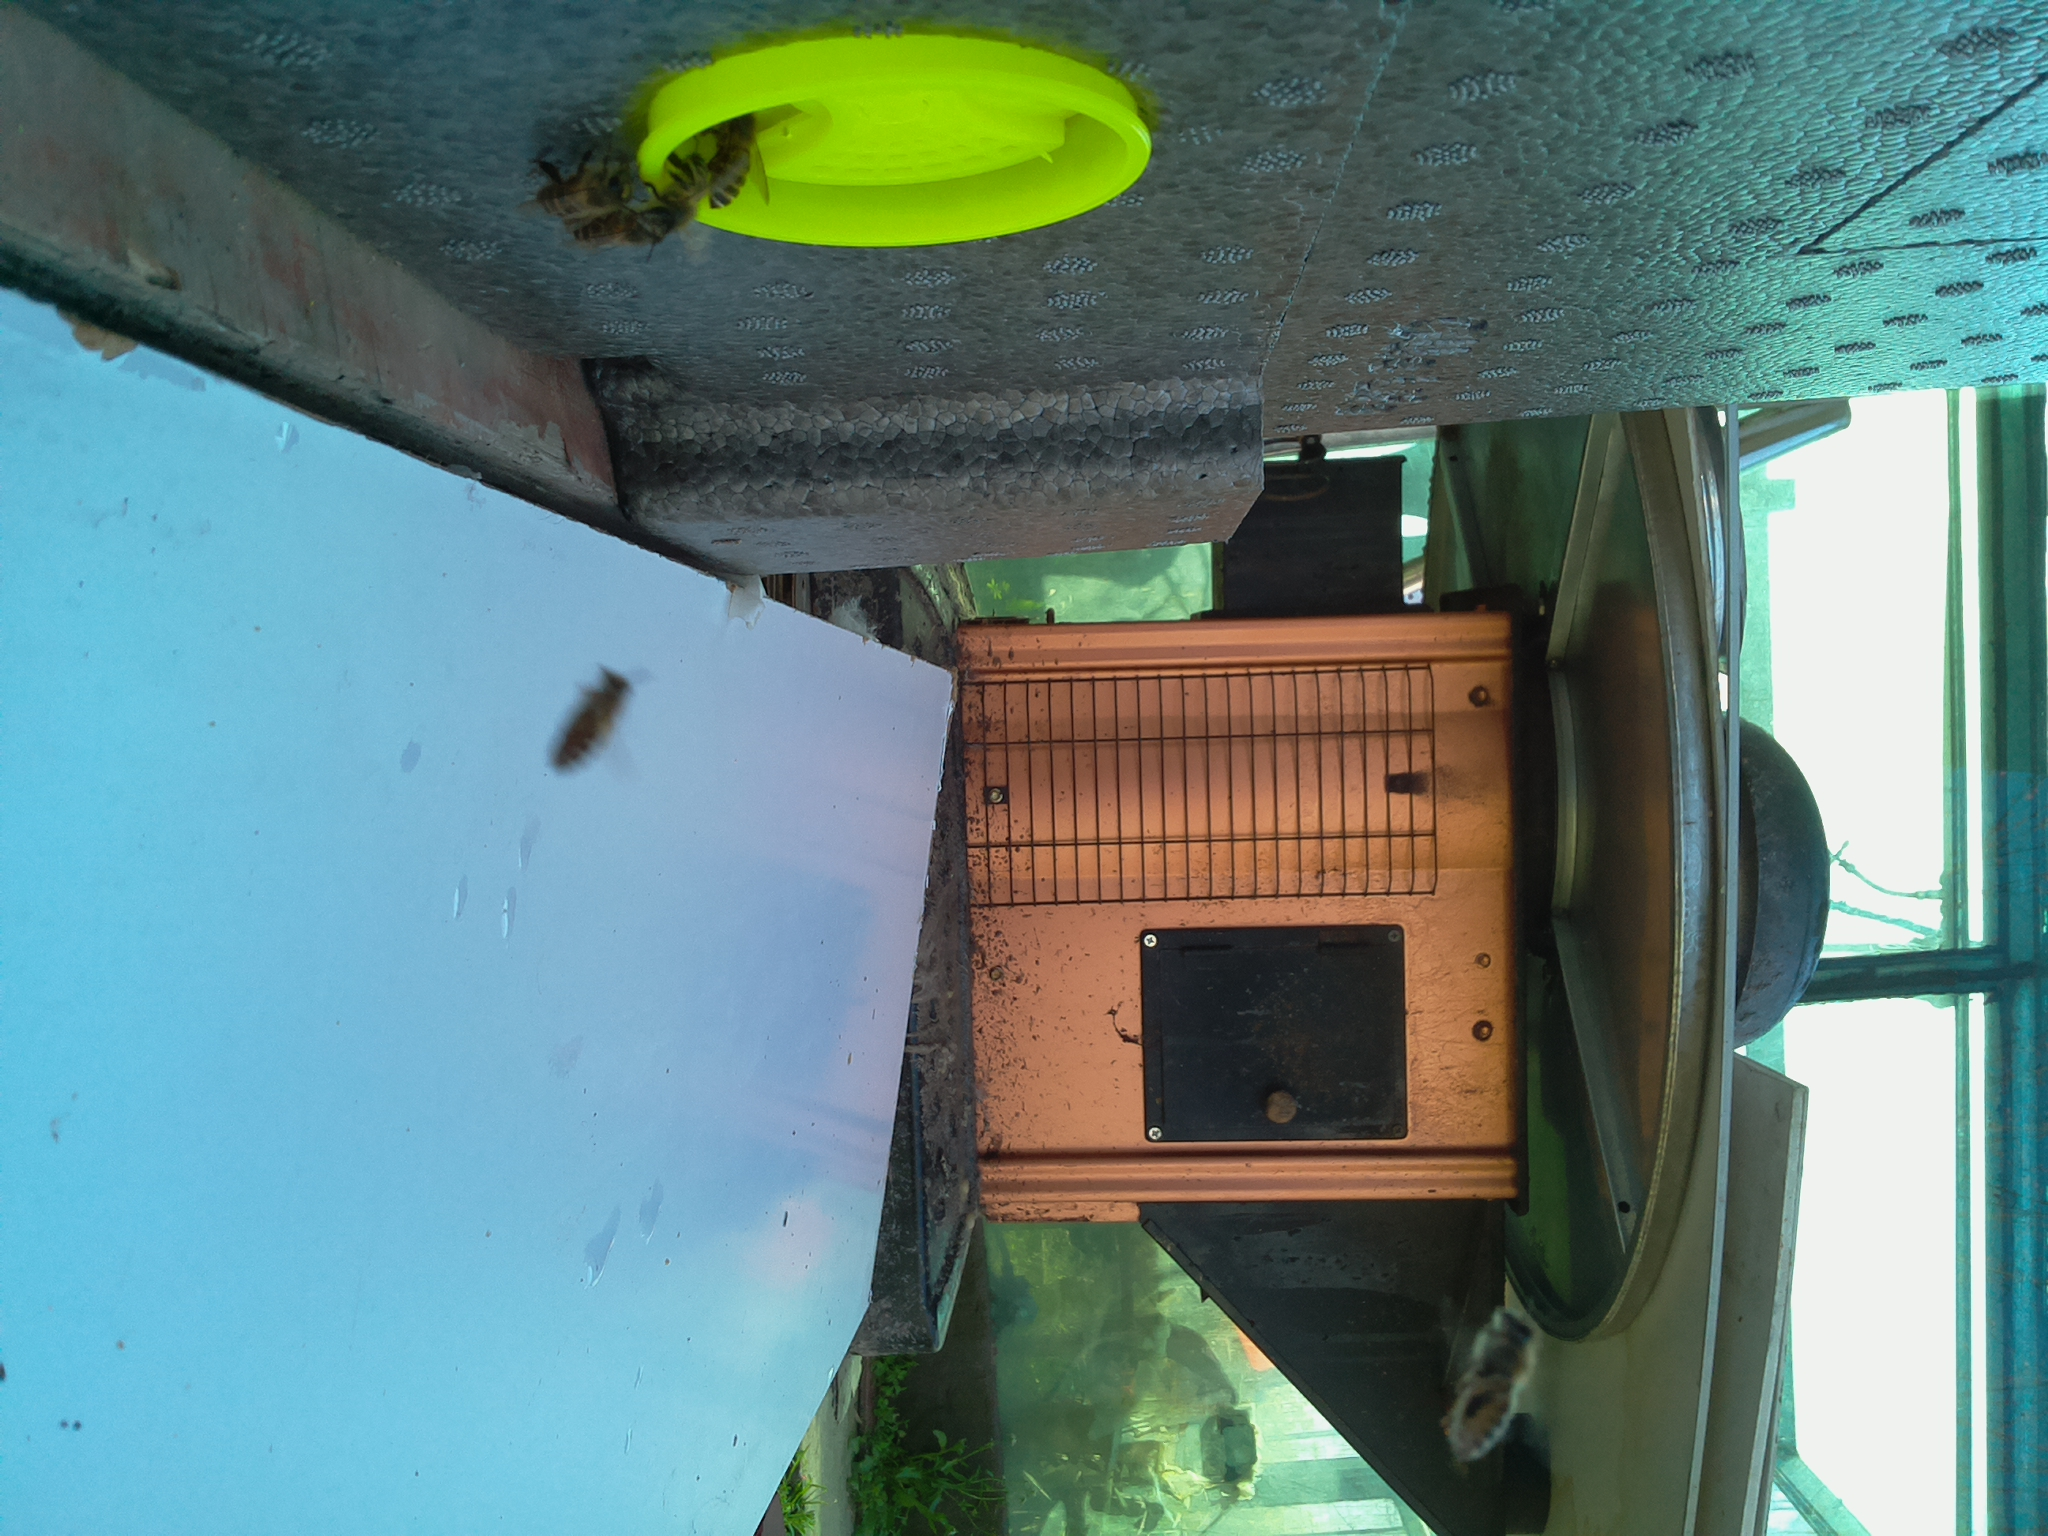bee: (529, 151, 634, 219)
